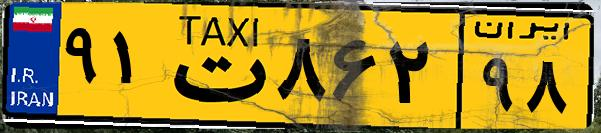1: (110, 28, 158, 98)
2: (385, 28, 445, 110)
6: (330, 28, 385, 110)
8: (270, 28, 330, 110), (525, 38, 570, 115)
9: (57, 26, 110, 100), (475, 38, 525, 113)
ت: (158, 12, 270, 120)
